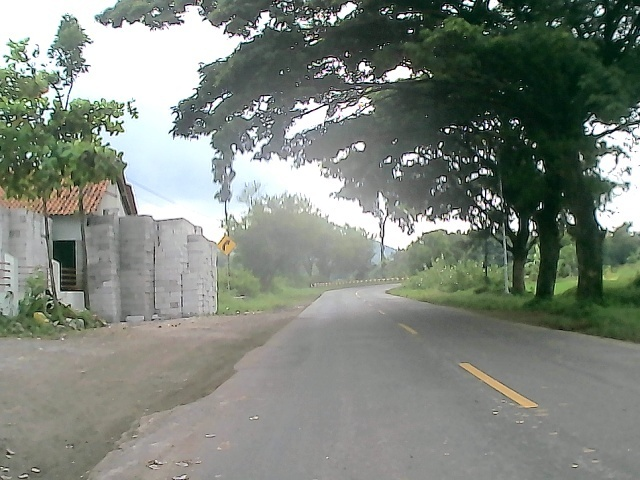Tikungan ke kanan: (213, 234, 240, 256)
